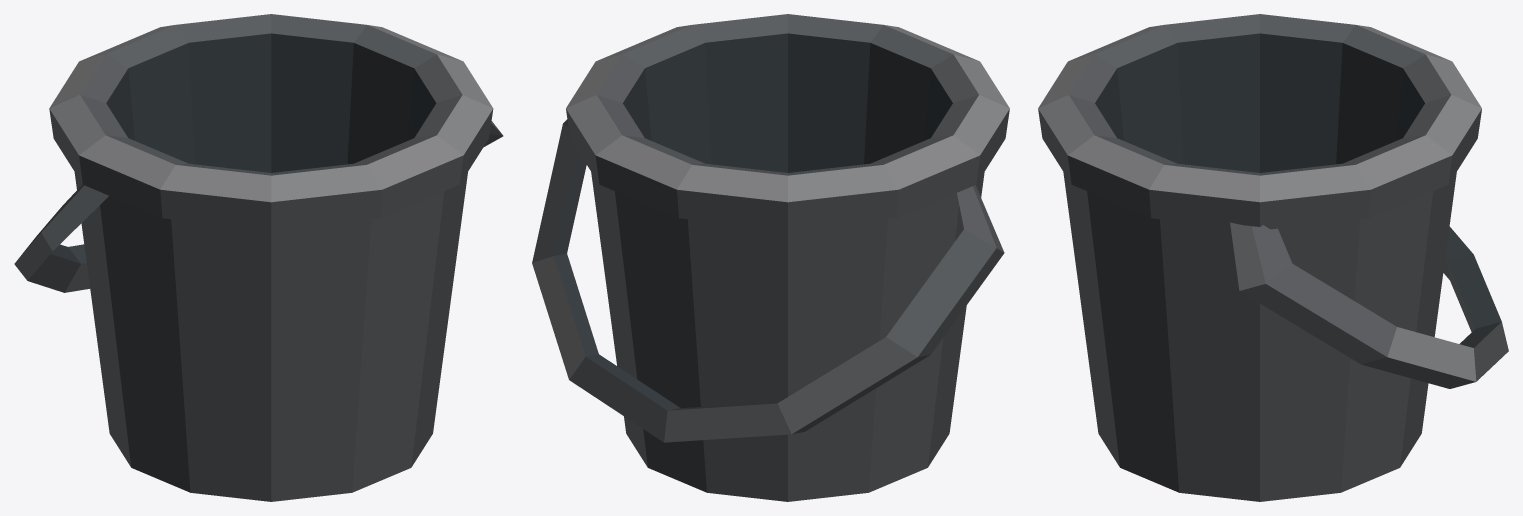
File: bucket.glb
3 renders of one model, left to right at view 1: azimuth 30°, elevation 25°; view 2: azimuth 150°, elevation 25°; view 3: azimuth 270°, elevation 25°, orthographic.
Parts seen in each view (by area): view 1: Cylinder; view 2: Cylinder; view 3: Cylinder.
Boxes of the visible parts, x1,y1,x2,y2 form: Cylinder: [14, 14, 503, 501]; Cylinder: [532, 14, 1009, 501]; Cylinder: [1038, 14, 1508, 501].
Size of the model in its own units: 41.63 by 30.53 by 38.46.
Materials: 1 (1 with a texture image).
